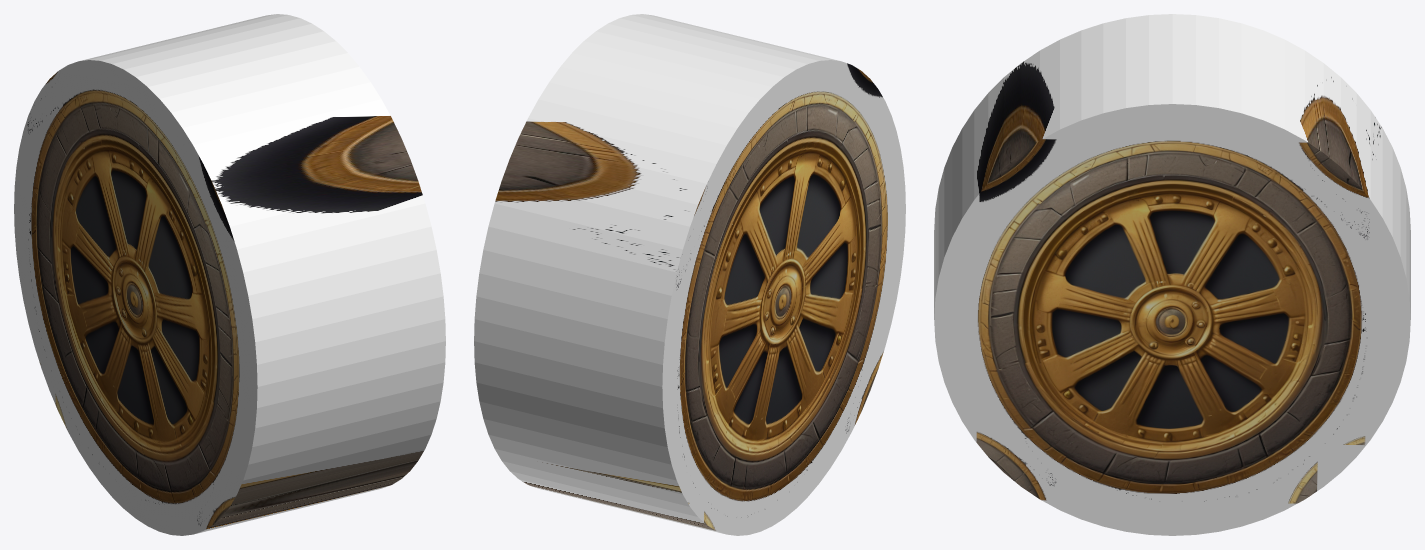
Rendered from wheel_1.glb.
3 views of the same model, side by side, from view 1: azimuth 30°, elevation 25°; view 2: azimuth 150°, elevation 25°; view 3: azimuth 270°, elevation 25° (orthographic). The views are drawn at different scales.
Parts seen in each view (by area): view 1: Цилиндр; view 2: Цилиндр; view 3: Цилиндр.
Part boxes in pixels (x1,y1,x2,y2): Цилиндр: (14, 14, 445, 535); Цилиндр: (474, 14, 905, 535); Цилиндр: (934, 14, 1410, 535).
Size of the model in its own units: 0.8809 by 1.97 by 1.97.
1 material, 1 textured.
